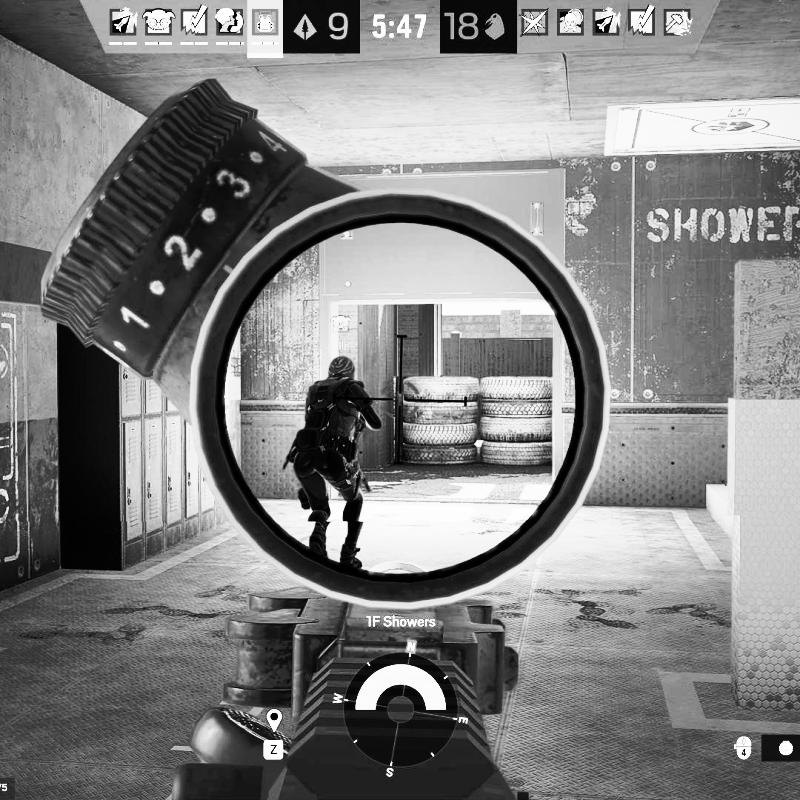Character: (285, 353, 383, 584)
Friend_label: (327, 314, 351, 352)
Head: (328, 354, 356, 382)
